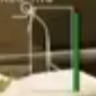hacks_1: (11, 2, 80, 94)
